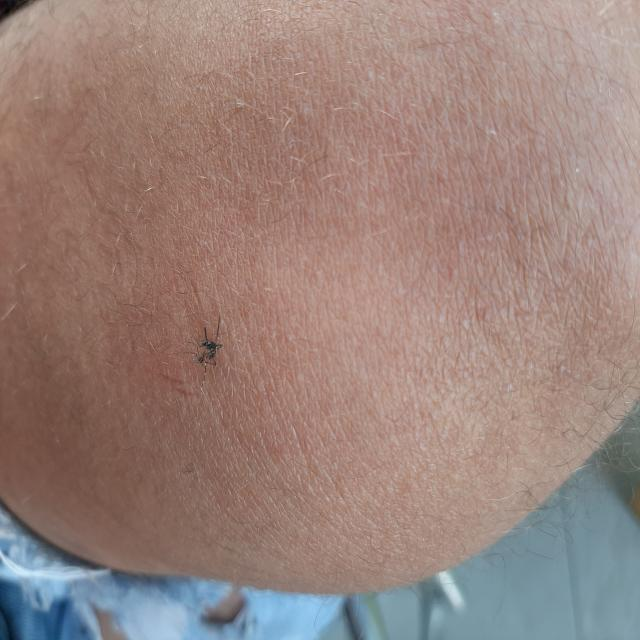albopictus: (179, 313, 229, 387)
